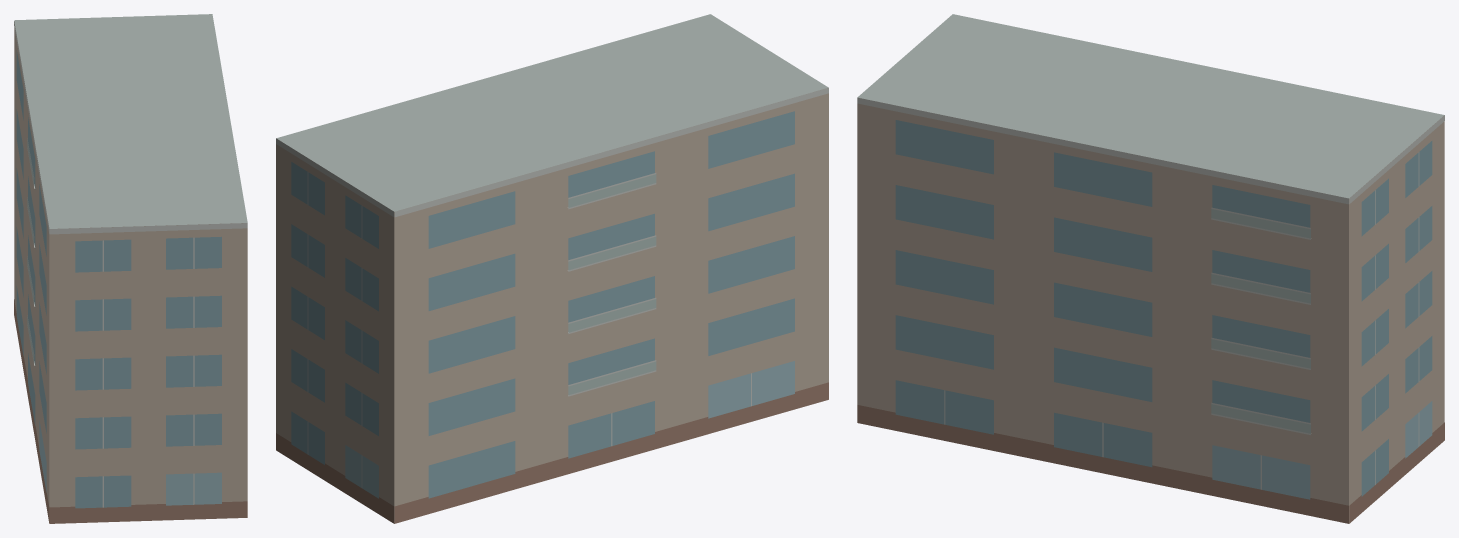
File: survey-upis-32931031.glb
3 views of the same model, side by side, from view 1: azimuth 30°, elevation 25°; view 2: azimuth 150°, elevation 25°; view 3: azimuth 270°, elevation 25° (orthographic). The views are drawn at different scales.
Visible parts, largest first — view 1: survey-upis-32931031.tmp; view 2: survey-upis-32931031.tmp; view 3: survey-upis-32931031.tmp.
Part boxes in pixels (x1,y1,x2,y2): survey-upis-32931031.tmp: (14, 14, 247, 523); survey-upis-32931031.tmp: (276, 14, 828, 523); survey-upis-32931031.tmp: (857, 14, 1444, 523).
Size of the model in its own units: 16.18 by 13.3 by 21.77.
